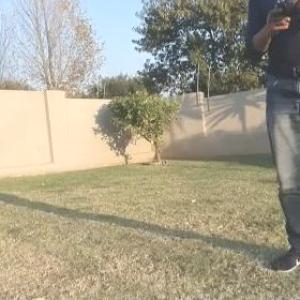follow: (241, 0, 299, 277)
